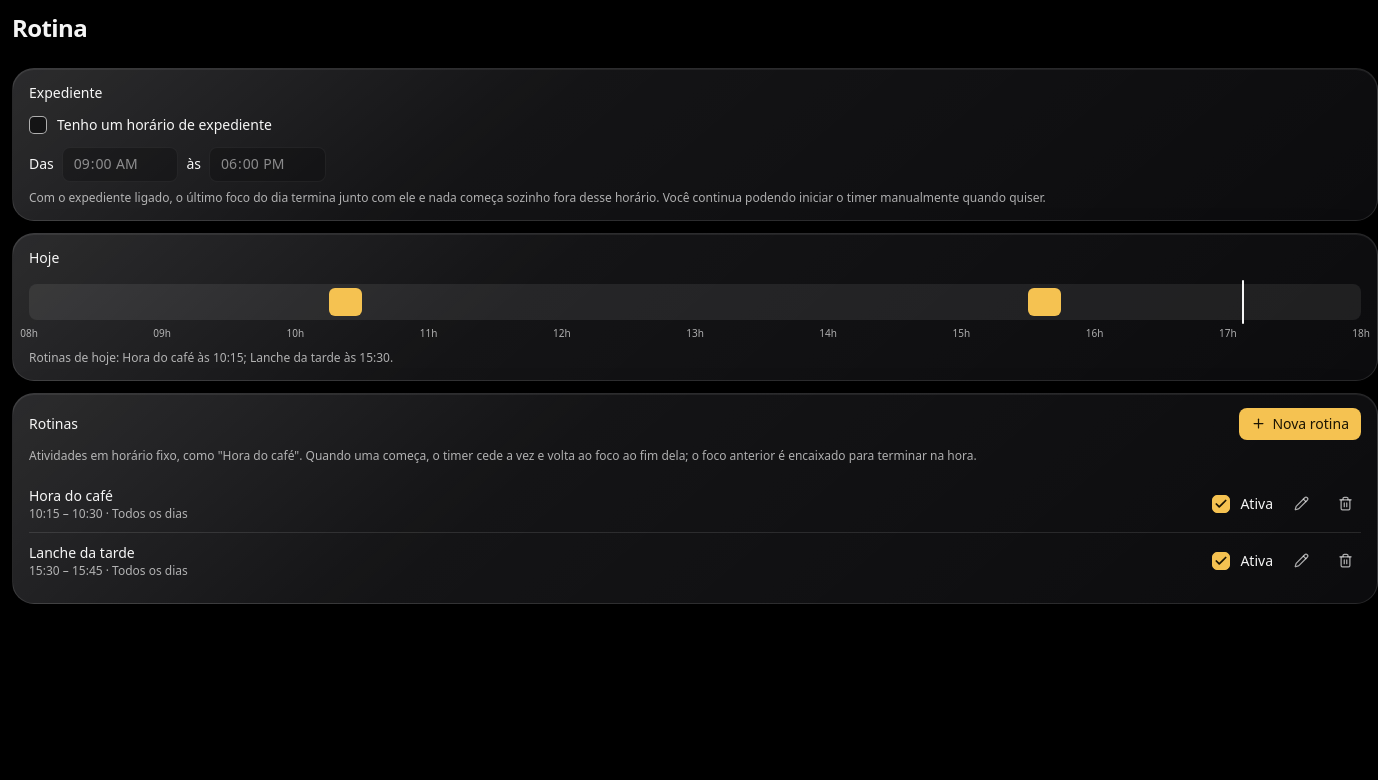
Scenario: RoutinesPage › mostra o motivo quando o expediente é recusado
Click the checkbox named "Tenho um horário de expediente" next to "Tenho um horário de expediente".
click(38, 125)  # box [29, 116, 47, 134]
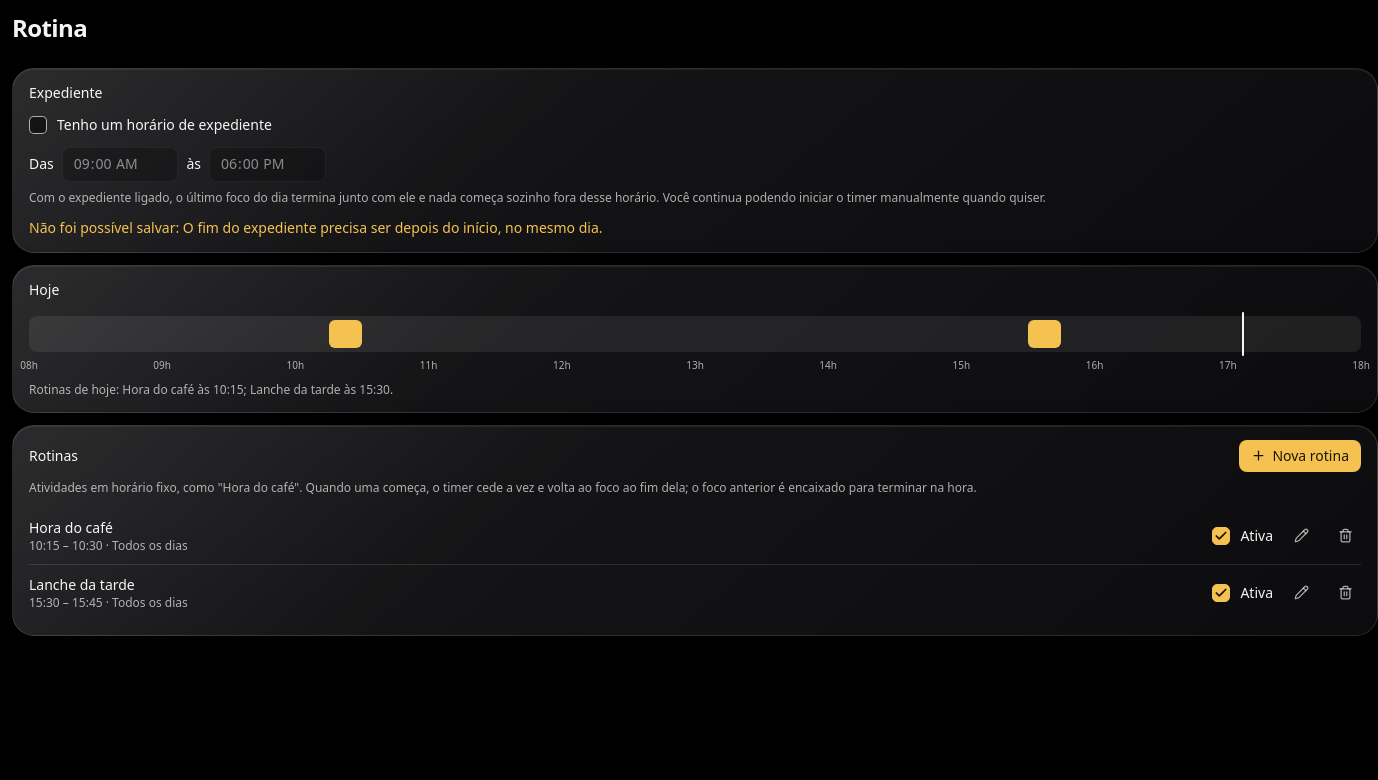
Expected: the message shows "O fim do expediente precisa ser depois do início", [183, 218, 602, 237]
